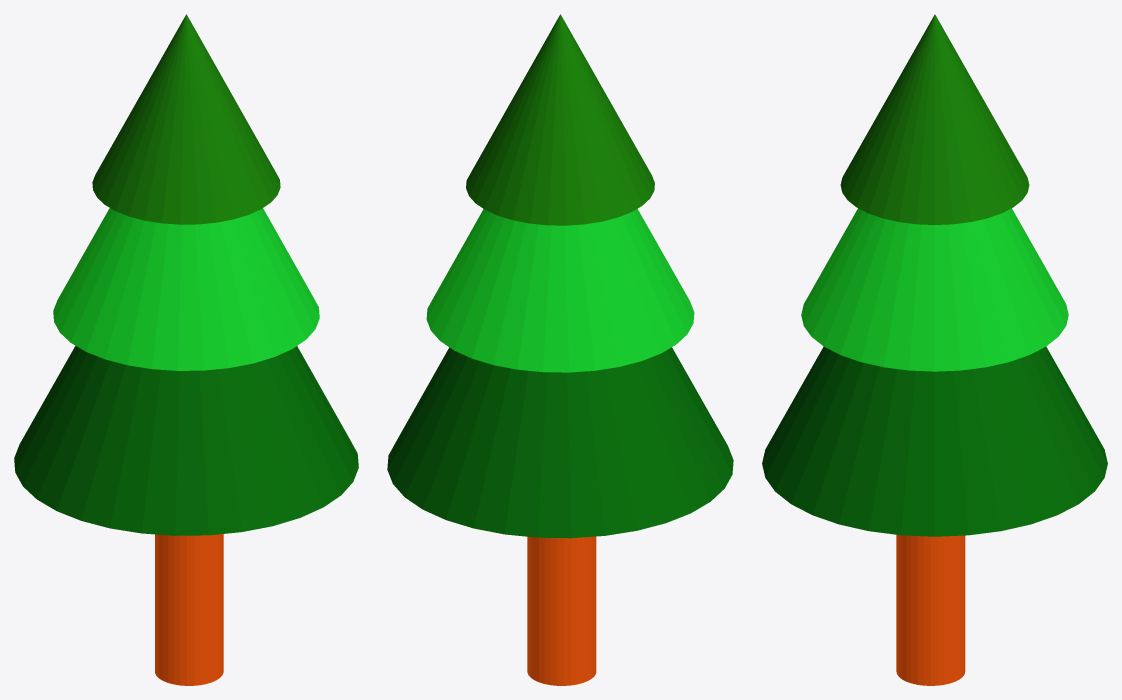
The model's file is tree-toon.dae.
3 renders of one model, left to right at view 1: azimuth 30°, elevation 25°; view 2: azimuth 150°, elevation 25°; view 3: azimuth 270°, elevation 25°, orthographic.
Visible parts, largest first — view 1: Cone.003, Cone.002, Cone.001, Cylinder; view 2: Cone.003, Cone.002, Cone.001, Cylinder; view 3: Cone.003, Cone.002, Cone.001, Cylinder.
Boxes of the visible parts, box(x1,y1,x2,y2) form: Cone.003: box(14, 346, 358, 535); Cone.002: box(53, 208, 319, 370); Cone.001: box(92, 14, 280, 224); Cylinder: box(155, 534, 223, 685); Cone.003: box(387, 347, 733, 538); Cone.002: box(426, 209, 694, 372); Cone.001: box(466, 14, 654, 225); Cylinder: box(527, 536, 596, 685); Cone.003: box(762, 346, 1107, 536); Cone.002: box(801, 208, 1068, 371); Cone.001: box(840, 14, 1029, 224); Cylinder: box(896, 534, 965, 685).
Size of the model in its own units: 3.66 by 7.68 by 3.66.
